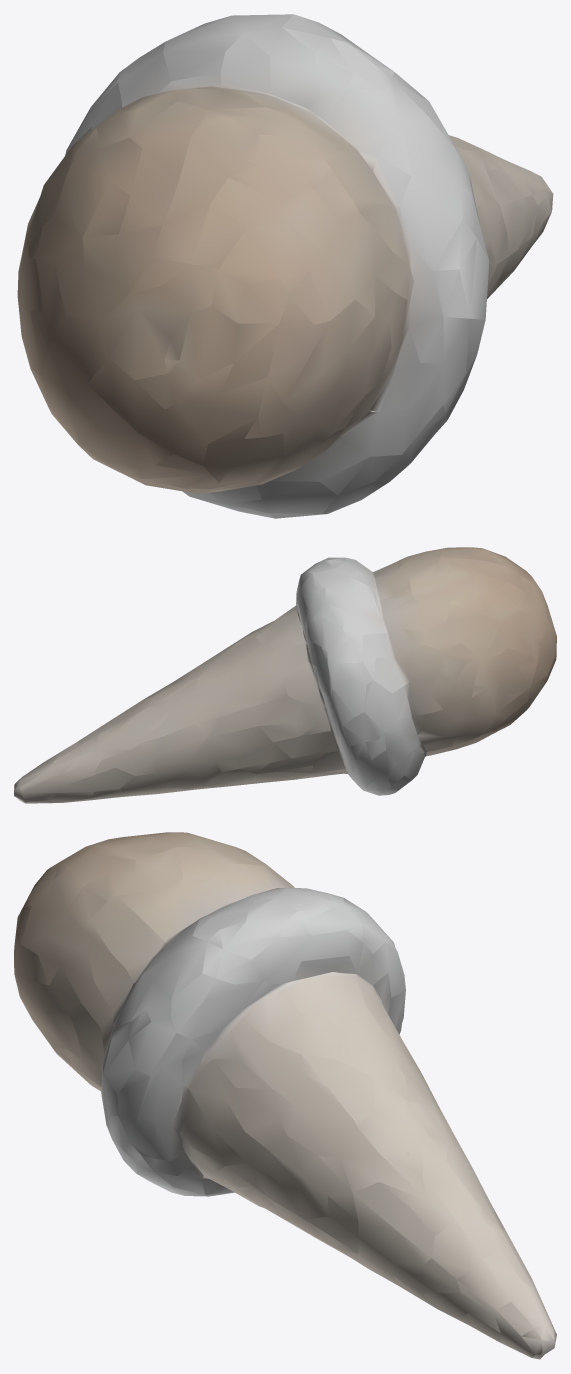
Rendered from 0000_mask_001_ice_cream_cone.glb.
The picture shows the model from 3 angles, top to bottom: view 1: azimuth 30°, elevation 25°; view 2: azimuth 150°, elevation 25°; view 3: azimuth 270°, elevation 25°; orthographic projection. The views are drawn at different scales.
Visible parts, largest first — view 1: mask_001_object; view 2: mask_001_object; view 3: mask_001_object.
Part boxes in pixels (box(x1,y1,x2,y2)): mask_001_object: box(17, 14, 553, 518); mask_001_object: box(14, 547, 556, 803); mask_001_object: box(14, 832, 556, 1359).
Size of the model in its own units: 0.2585 by 0.1416 by 0.2222.
